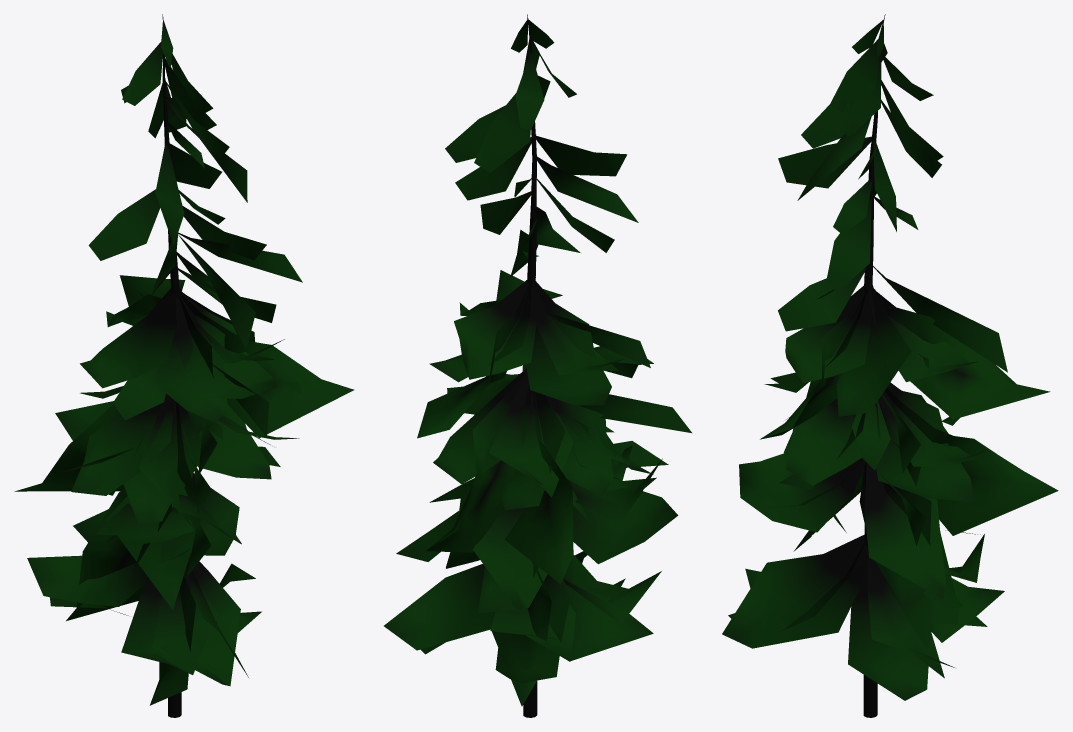
File: TTFE_PineSmall_03.fbx
3 views of the same model, side by side, from view 1: azimuth 30°, elevation 25°; view 2: azimuth 150°, elevation 25°; view 3: azimuth 270°, elevation 25° (orthographic).
Visible parts, largest first — view 1: TTFE_PineSmall_03; view 2: TTFE_PineSmall_03; view 3: TTFE_PineSmall_03.
Part boxes in pixels (x1=…): TTFE_PineSmall_03: x1=14, y1=14, x2=354, y2=717; TTFE_PineSmall_03: x1=384, y1=14, x2=691, y2=717; TTFE_PineSmall_03: x1=722, y1=14, x2=1058, y2=717.
Size of the model in its own units: 2.55 by 6.5 by 2.85.
